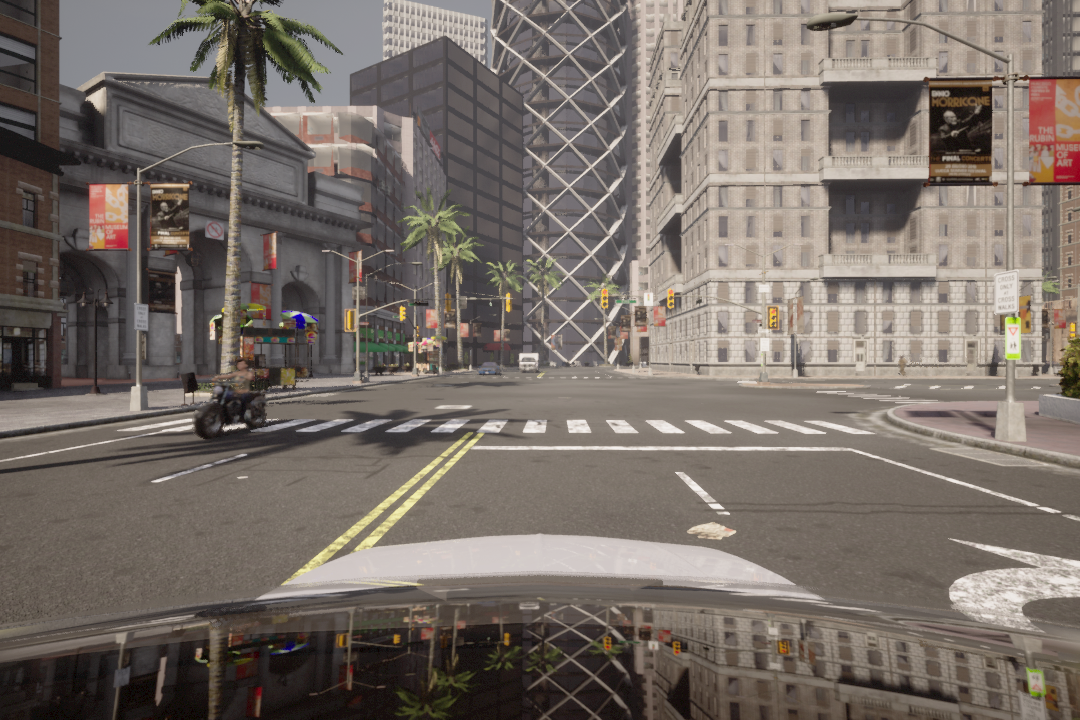TrafficLight: (767, 304, 779, 333), (601, 289, 614, 310), (665, 285, 675, 310)
TrafficSign: (204, 219, 227, 244)
walkside: (118, 411, 882, 439)
